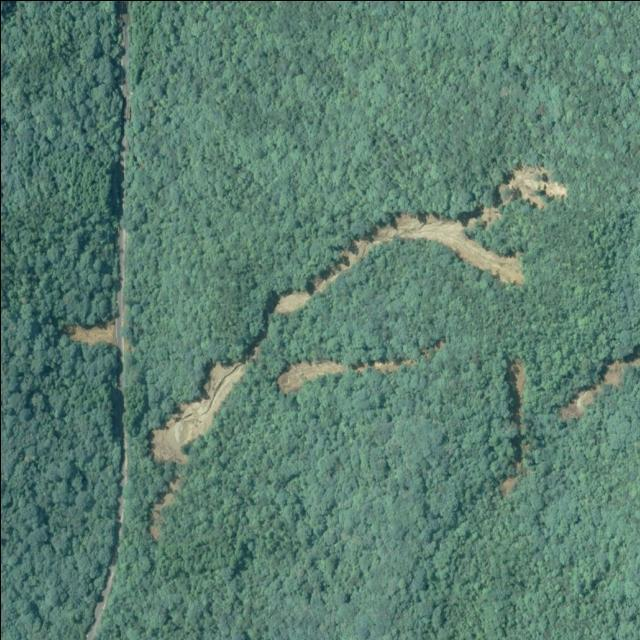landslide: (273, 212, 524, 312), (150, 362, 244, 463), (559, 348, 640, 420), (498, 164, 567, 208), (276, 359, 346, 393), (559, 384, 601, 419), (64, 320, 113, 345), (273, 289, 310, 312), (509, 358, 526, 405), (500, 475, 518, 497)
